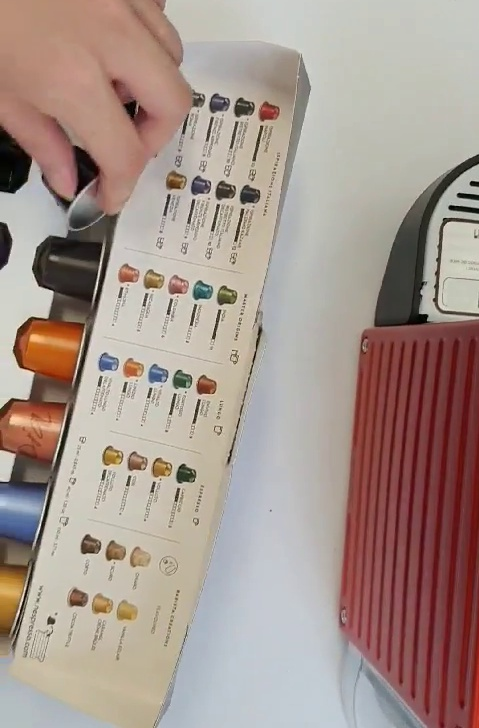capsule_2: (37, 141, 127, 234)
